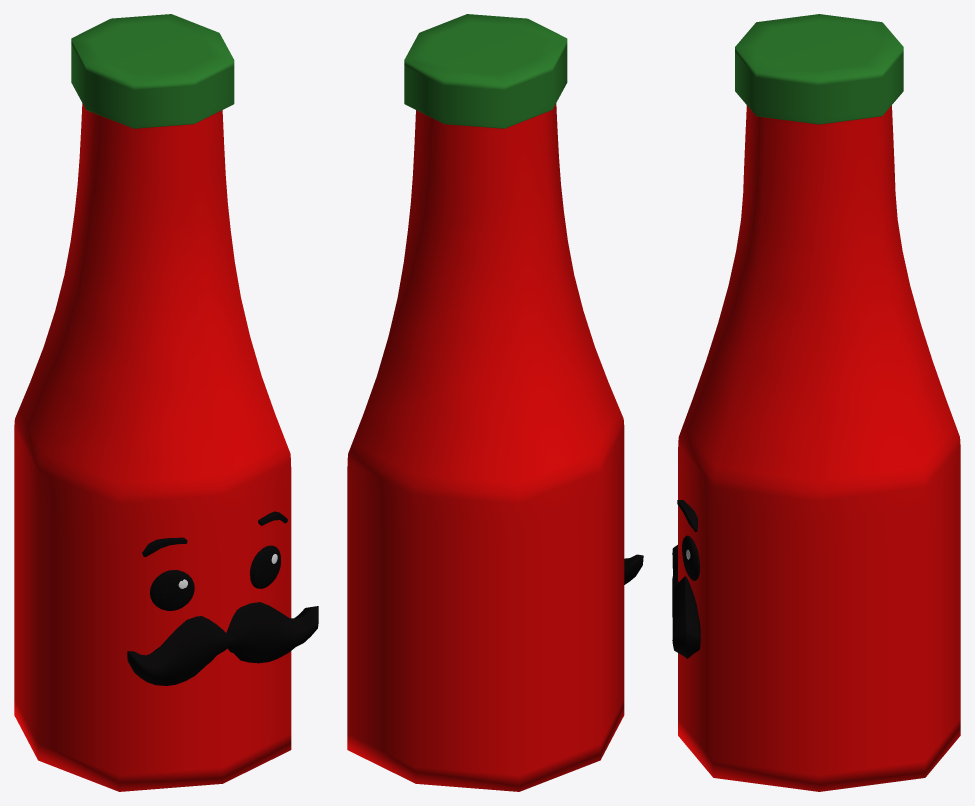
The model's file is ketcap_baba.fbx.
3 renders of one model, left to right at view 1: azimuth 30°, elevation 25°; view 2: azimuth 150°, elevation 25°; view 3: azimuth 270°, elevation 25°, orthographic.
Parts seen in each view (by area): view 1: pCube1, domates_baba:pPlane6, polySurface1, polySurface2; view 2: pCube1; view 3: pCube1, domates_baba:pPlane6, polySurface2.
Part boxes in pixels (<box>): pCube1: <box>14,14,291,791</box>; domates_baba:pPlane6: <box>127,602,318,685</box>; polySurface1: <box>150,570,194,610</box>; polySurface2: <box>250,545,280,588</box>; pCube1: <box>347,14,624,791</box>; pCube1: <box>678,14,960,791</box>; domates_baba:pPlane6: <box>672,545,700,658</box>; polySurface2: <box>682,535,699,580</box>.
Size of the model in its own units: 2.79 by 7.96 by 3.01.
